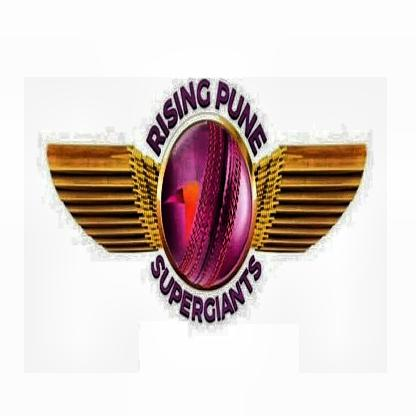Rising Pune Supergiants: (46, 74, 368, 324)
